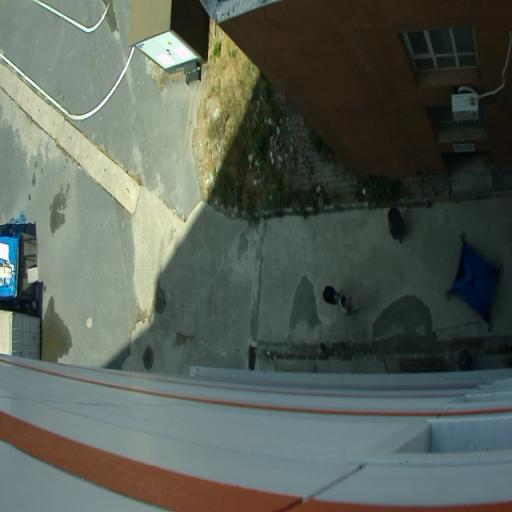tent: (444, 228, 506, 330)
